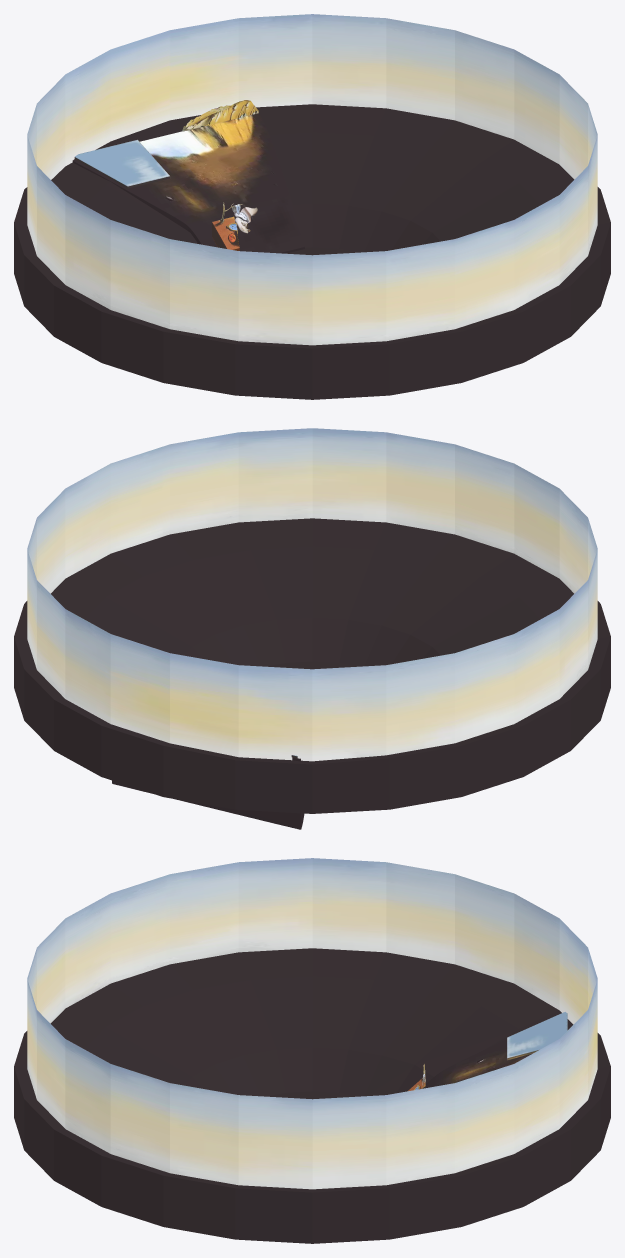
The model's file is dalithe_persistence_of_memory.glb.
3 views of the same model, one above another, from view 1: azimuth 30°, elevation 25°; view 2: azimuth 150°, elevation 25°; view 3: azimuth 270°, elevation 25° (orthographic).
Visible parts, largest first — view 1: Cylinder006_Ceramic_0, Cylinder007_Ceramic1_0, Line004_16 - Matte Plastic_0, Box001_05 - Default_0; view 2: Cylinder006_Ceramic_0, Cylinder007_Ceramic1_0, Line004_16 - Matte Plastic_0; view 3: Cylinder006_Ceramic_0, Cylinder007_Ceramic1_0, Line004_16 - Matte Plastic_0, Box001_05 - Default_0.
Part boxes in pixels (bbox=[...]): Cylinder006_Ceramic_0: bbox=[27, 14, 597, 345]; Cylinder007_Ceramic1_0: bbox=[14, 104, 610, 399]; Line004_16 - Matte Plastic_0: bbox=[72, 113, 304, 253]; Box001_05 - Default_0: bbox=[74, 100, 258, 250]; Cylinder006_Ceramic_0: bbox=[27, 428, 597, 761]; Cylinder007_Ceramic1_0: bbox=[14, 518, 610, 813]; Line004_16 - Matte Plastic_0: bbox=[112, 757, 304, 829]; Cylinder006_Ceramic_0: bbox=[27, 858, 597, 1189]; Cylinder007_Ceramic1_0: bbox=[14, 948, 610, 1243]; Line004_16 - Matte Plastic_0: bbox=[425, 1039, 532, 1087]; Box001_05 - Default_0: bbox=[408, 1012, 567, 1091].
Bounding box in the file's own units: 24.3 × 7.21 × 24.3.
8 materials, 7 textured.
